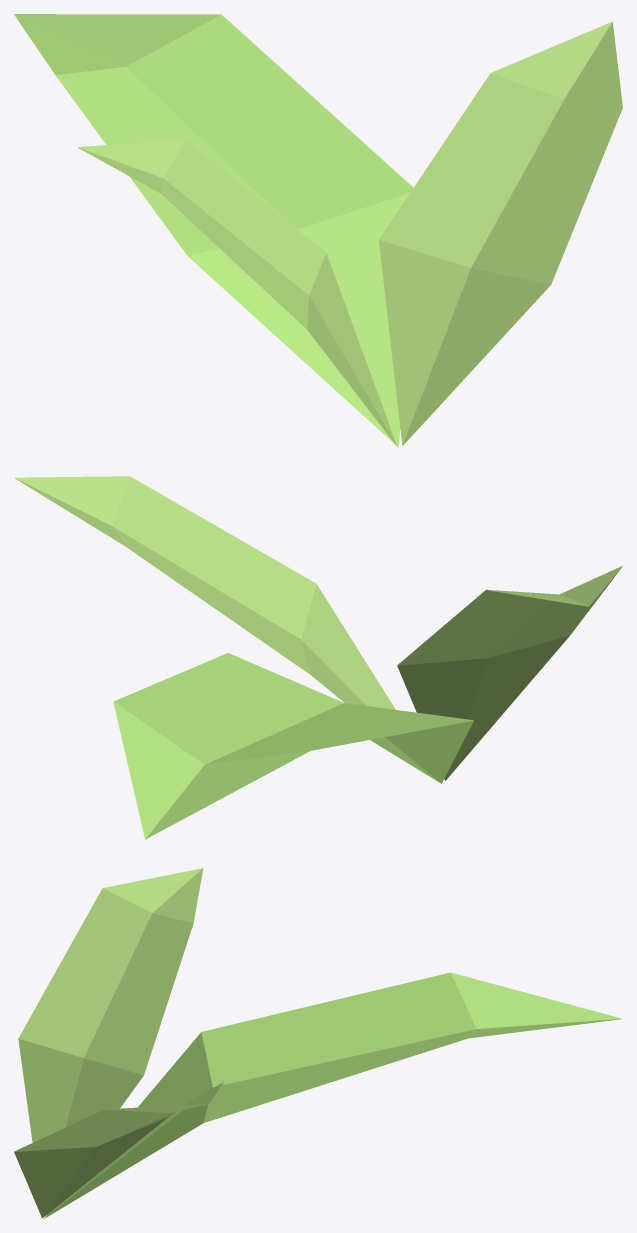
File: Plant_k_TwoS_02.fbx
3 renders of one model, top to bottom at view 1: azimuth 30°, elevation 25°; view 2: azimuth 150°, elevation 25°; view 3: azimuth 270°, elevation 25°, orthographic. The views are drawn at different scales.
Parts seen in each view (by area): view 1: Plant_k_TwoS_02; view 2: Plant_k_TwoS_02; view 3: Plant_k_TwoS_02.
Part boxes in pixels (x1=…): Plant_k_TwoS_02: x1=14, y1=14, x2=622, y2=447; Plant_k_TwoS_02: x1=14, y1=476, x2=622, y2=839; Plant_k_TwoS_02: x1=14, y1=868, x2=622, y2=1218.
Size of the model in its own units: 0.3107 by 0.1599 by 0.3489.
